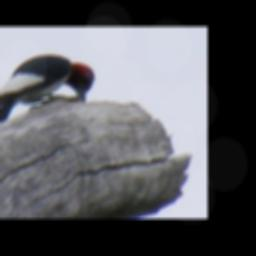Woodpecker: (0, 52, 99, 128)
